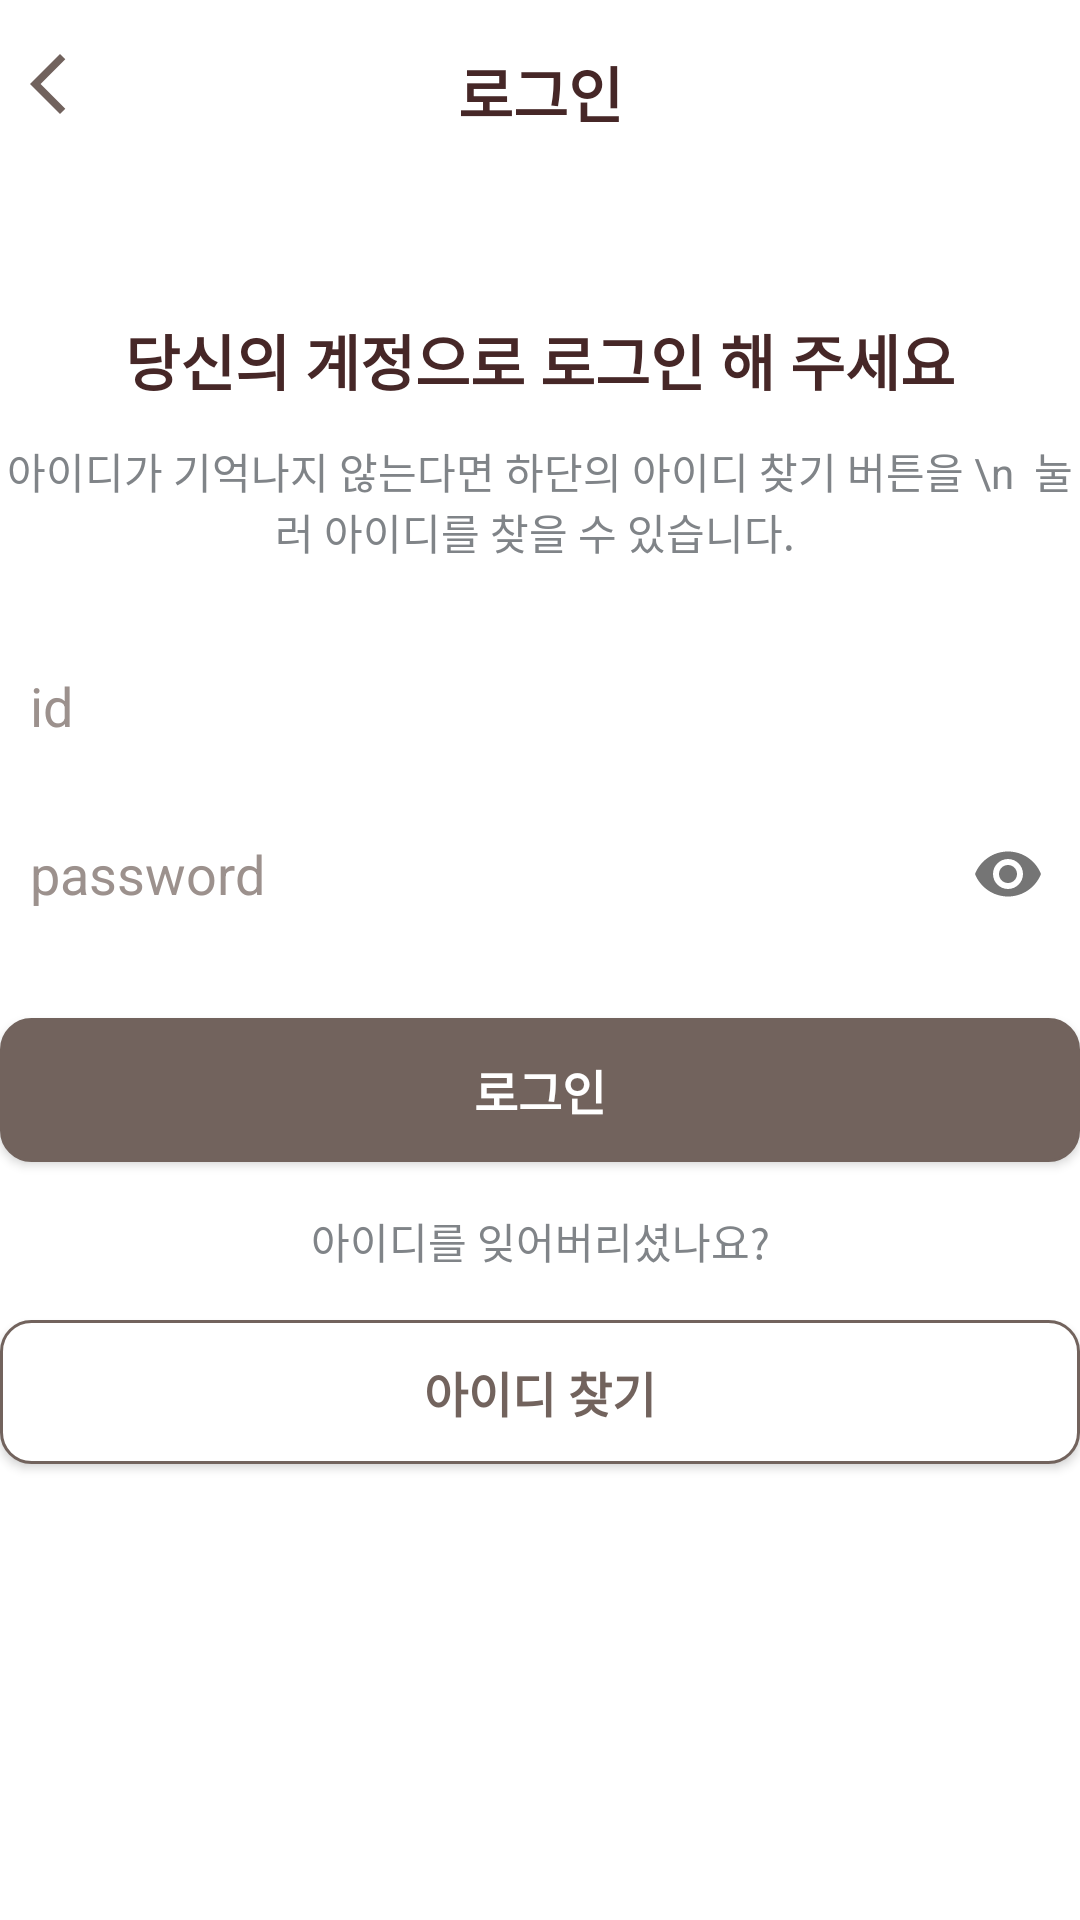

Icons on this 1080 x 1920 Android screen, each with its box as (x1, y1, x2, y2):
arrow back: (30, 54, 65, 114)
